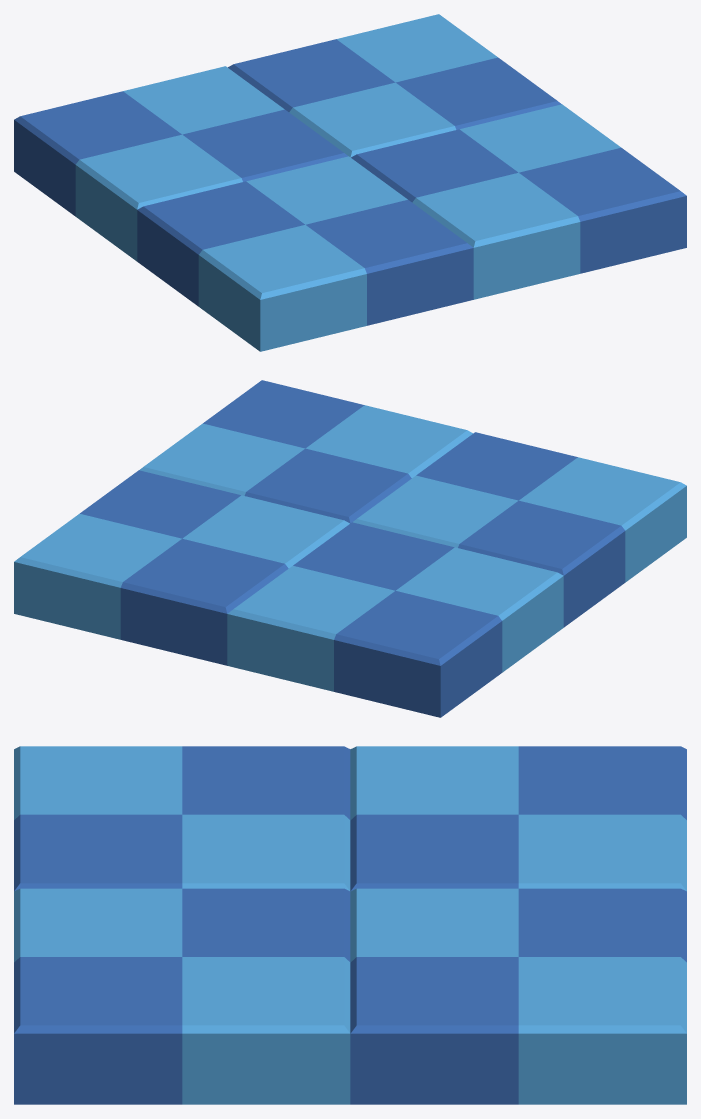
The model's file is Floor_S_2.glb.
The picture shows the model from 3 angles, top to bottom: view 1: azimuth 30°, elevation 25°; view 2: azimuth 150°, elevation 25°; view 3: azimuth 270°, elevation 25°; orthographic projection. The views are drawn at different scales.
Visible parts, largest first — view 1: Floor_S_2; view 2: Floor_S_2; view 3: Floor_S_2.
Part boxes in pixels (<box>): Floor_S_2: <box>14,14,686,351</box>; Floor_S_2: <box>14,380,686,717</box>; Floor_S_2: <box>14,746,686,1104</box>.
Size of the model in its own units: 2 by 0.2511 by 2.
Materials: 1 (1 with a texture image).
